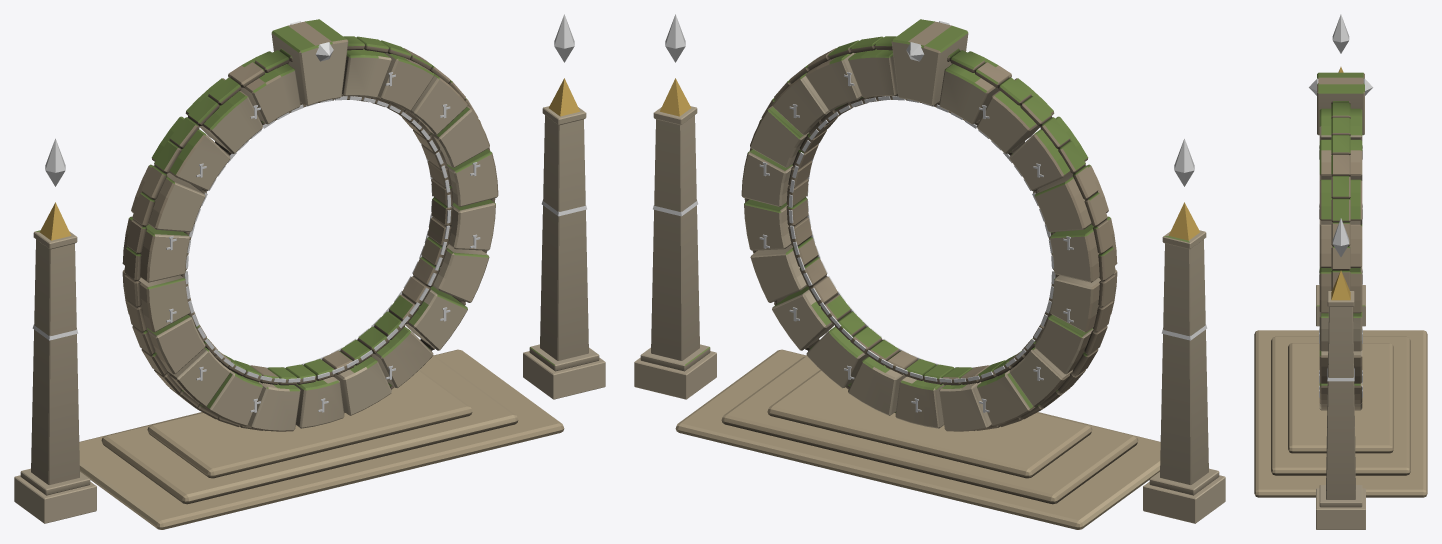
The model's file is Portal.glb.
3 views of the same model, side by side, from view 1: azimuth 30°, elevation 25°; view 2: azimuth 150°, elevation 25°; view 3: azimuth 270°, elevation 25° (orthographic). The views are drawn at different scales.
Parts seen in each view (by area): view 1: Ring, Dais, Obelisk1, Obelisk-1, Runes, Crystal-1, Crystal1; view 2: Ring, Dais, Obelisk1, Obelisk-1, Runes, Crystal-1, Crystal1; view 3: Dais, Ring, Obelisk1, Crystal1, Cap1, Crystal-1, Runes, Obelisk-1.
Part boxes in pixels (left/top/right/bottom): Ring: left=122, top=19, right=498, bottom=431; Dais: left=79, top=349, right=564, bottom=529; Obelisk1: left=523, top=106, right=605, bottom=399; Obelisk-1: left=14, top=230, right=96, bottom=523; Runes: left=166, top=21, right=480, bottom=412; Crystal-1: left=32, top=138, right=78, bottom=340; Crystal1: left=541, top=14, right=586, bottom=216; Ring: left=741, top=19, right=1117, bottom=431; Dais: left=675, top=349, right=1160, bottom=529; Obelisk1: left=634, top=106, right=716, bottom=399; Obelisk-1: left=1143, top=230, right=1225, bottom=523; Runes: left=759, top=21, right=1073, bottom=412; Crystal-1: left=1161, top=138, right=1207, bottom=340; Crystal1: left=653, top=14, right=698, bottom=216; Dais: left=1254, top=330, right=1427, bottom=497; Ring: left=1317, top=72, right=1364, bottom=410; Obelisk1: left=1316, top=291, right=1365, bottom=529; Crystal1: left=1327, top=218, right=1354, bottom=381; Cap1: left=1331, top=270, right=1350, bottom=300; Crystal-1: left=1332, top=14, right=1349, bottom=53; Runes: left=1309, top=78, right=1372, bottom=397; Obelisk-1: left=1316, top=285, right=1365, bottom=326.
Bounding box in the file's own units: 55.2 × 38.67 × 18.
